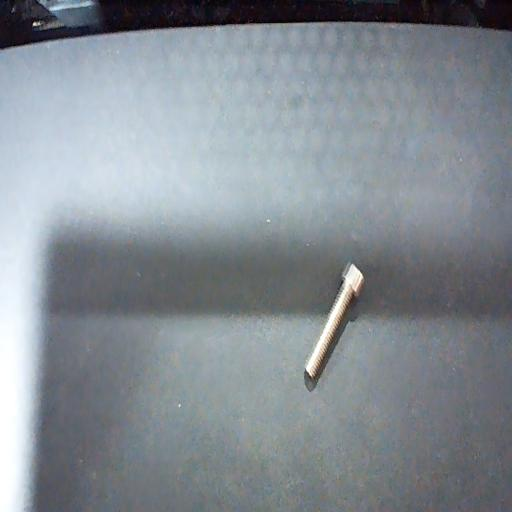screw: (304, 260, 364, 380)
